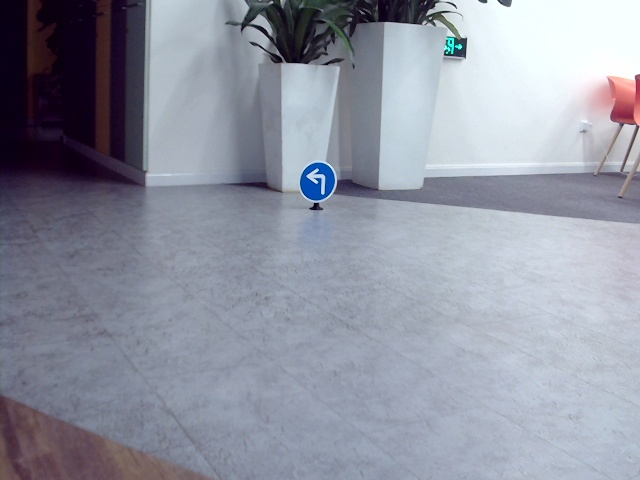turn_left: (304, 166, 330, 195)
